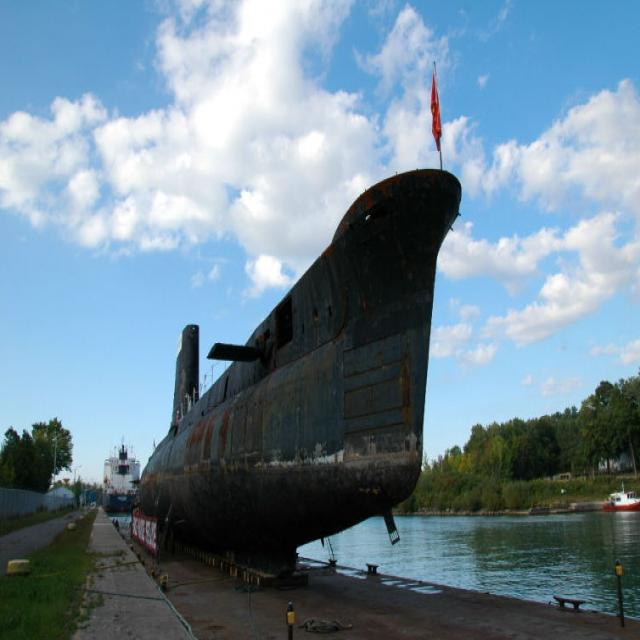submarine: (137, 179, 460, 535)
